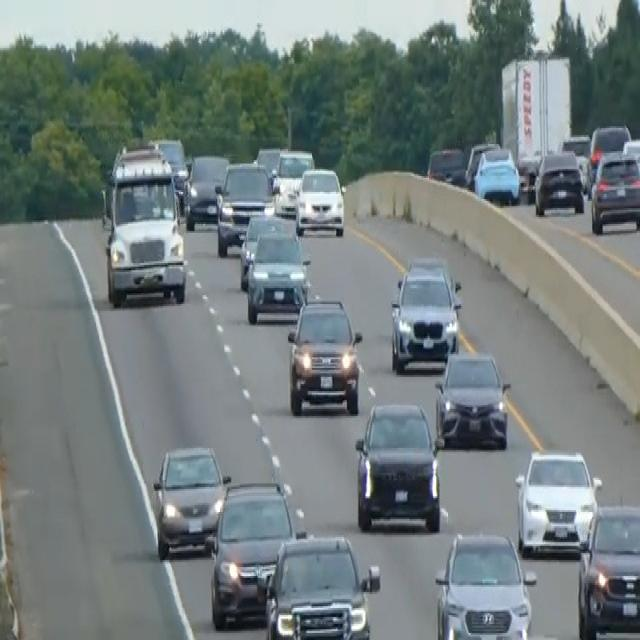car: (205, 478, 301, 630), (263, 530, 380, 638), (354, 398, 442, 534), (434, 530, 536, 638), (514, 446, 601, 556), (286, 295, 363, 416), (151, 441, 230, 558), (389, 254, 462, 374), (576, 502, 639, 638), (434, 348, 511, 450), (245, 225, 311, 324), (214, 158, 275, 256), (238, 210, 294, 288), (590, 149, 639, 233), (294, 164, 345, 236), (183, 151, 229, 229), (533, 147, 584, 217), (148, 135, 189, 212), (586, 123, 631, 192), (271, 148, 314, 215), (473, 144, 521, 204), (560, 132, 591, 188), (463, 138, 497, 188), (426, 144, 466, 185), (621, 135, 639, 210), (255, 144, 281, 178)
lorry: (99, 138, 188, 308)
